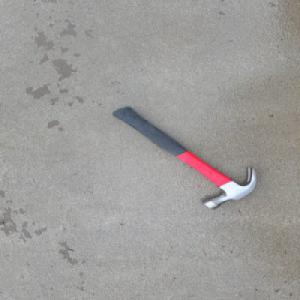Hammer: (110, 105, 258, 210)
